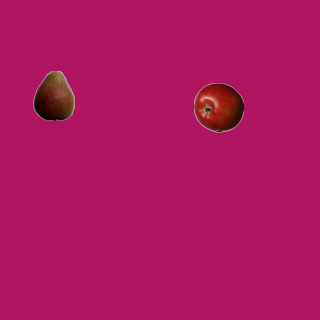Apple Braeburn: (193, 82, 243, 132)
Pear Forelle: (28, 70, 78, 120)
